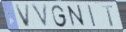G: (51, 4, 69, 28)
I: (86, 4, 98, 29)
N: (65, 4, 88, 29)
T: (101, 5, 115, 27)
V: (30, 3, 50, 30), (14, 4, 31, 29)
